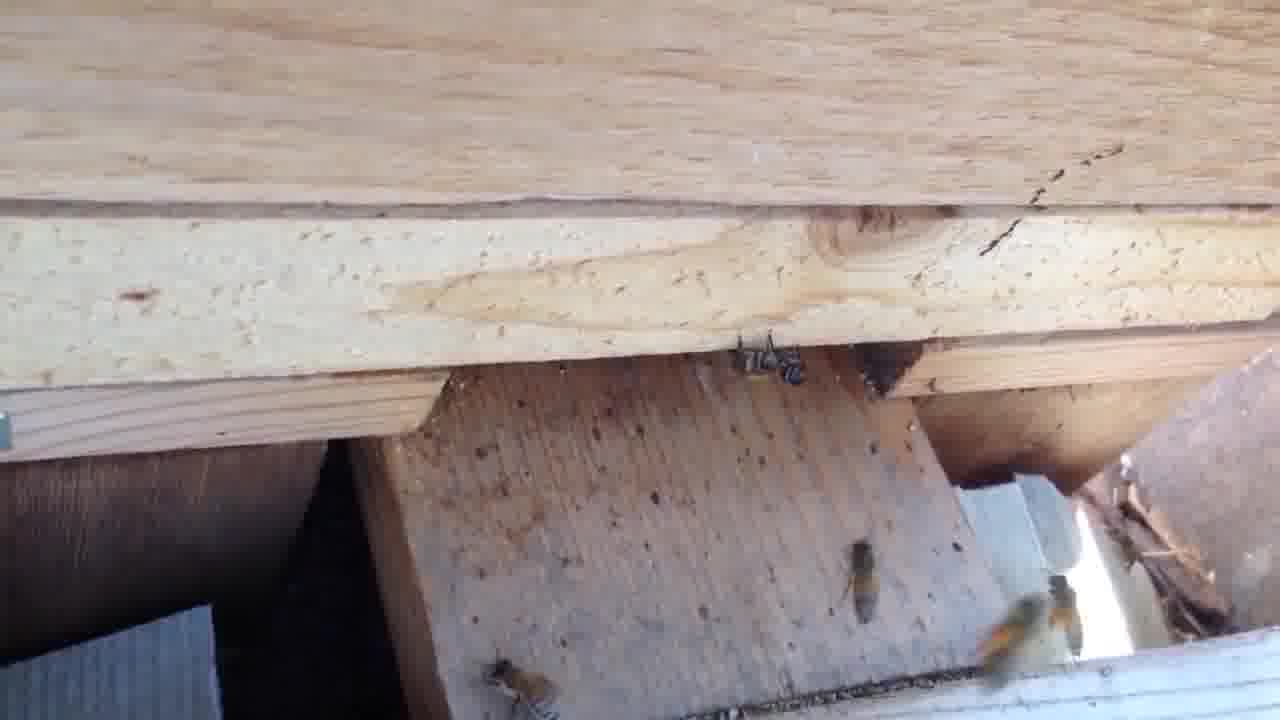pollen: (973, 590, 1045, 687), (1045, 570, 1094, 657)
